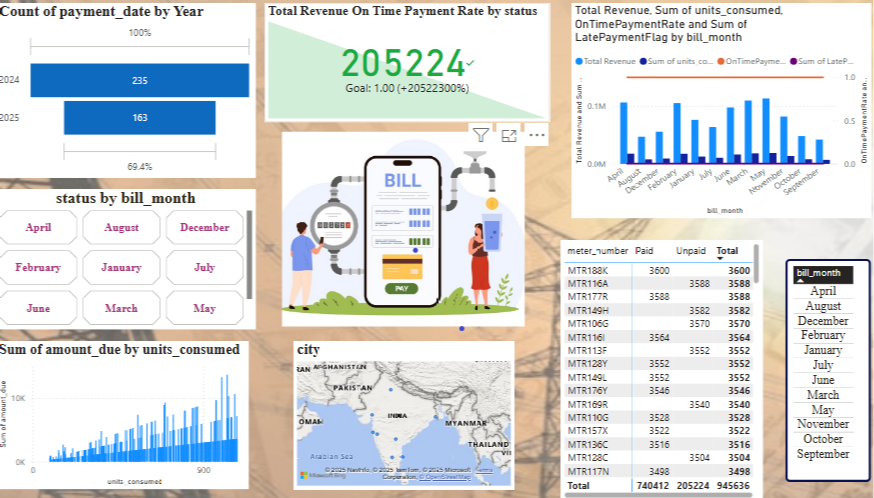

The page's visual inventory and layout, read from the dashboard file:
{"tool":"powerbi","page":{"name":"Page 2","canvas":[1280,720],"ordinal":1},"visuals":[{"type":"image","box":[424.6,150.2,354.1,366.4],"z":0},{"type":"advancedSlicerVisual","title":"status by bill_month","fields":{"Values":["in.bill_month"]},"box":[24.5,275.9,369.4,199.3],"z":1000},{"type":"kpi","title":"Total Revenue On Time Payment Rate by status","fields":{"Indicator":["in.Total Revenue"],"Goal":["in.OnTimePaymentRate"],"TrendLine":["in.status"]},"box":[404.7,12.3,404.7,168.6],"z":3000},{"type":"tableEx","fields":{"Values":["in.bill_month"]},"box":[1143.6,375.6,121.1,315.8],"z":4000},{"type":"lineClusteredColumnComboChart","fields":{"Y":["in.Total Revenue","Sum(in.units_consumed)"],"Category":["in.bill_month"],"Y2":["in.OnTimePaymentRate","Sum(in.LatePaymentFlag)"]},"box":[840,12.3,424.6,305.1],"z":11000},{"type":"map","fields":{"Category":["in.city"]},"box":[446.1,492.1,312.7,210],"z":12000},{"type":"funnel","fields":{"Category":["in.due_date.Variation.Date Hierarchy.Year","in.due_date.Variation.Date Hierarchy.Month"],"Y":["CountNonNull(in.payment_date)"]},"box":[24.5,12.3,369.4,248.3],"z":13000},{"type":"pivotTable","fields":{"Values":["Sum(in.amount_due)"],"Rows":["in.meter_number"],"Columns":["in.status"]},"box":[824.7,348,286.7,371],"z":14000},{"type":"clusteredColumnChart","fields":{"Y":["Sum(in.amount_due)"],"Category":["in.units_consumed"]},"box":[24.5,492.1,358.7,210],"z":16000}]}

Visuals, with their boxes in screenshot pixels (x1, y1, x2, y2), scaled from the page's 1280x720 canvas onto the 874x498 screenshot:
image: locate(290, 104, 532, 357)
"status by bill_month" advancedSlicerVisual: locate(17, 191, 269, 329)
"Total Revenue On Time Payment Rate by status" kpi: locate(276, 9, 553, 125)
tableEx - in.bill_month: locate(781, 260, 864, 478)
lineClusteredColumnComboChart - in.Total Revenue x Sum(in.units_consumed): locate(574, 9, 863, 220)
map - in.city: locate(305, 340, 518, 486)
funnel - in.due_date.Variation.Date Hierarchy.Year x in.due_date.Variation.Date Hierarchy.Month: locate(17, 9, 269, 180)
pivotTable - Sum(in.amount_due) x in.meter_number: locate(563, 241, 759, 497)
clusteredColumnChart - Sum(in.amount_due) x in.units_consumed: locate(17, 340, 262, 486)
